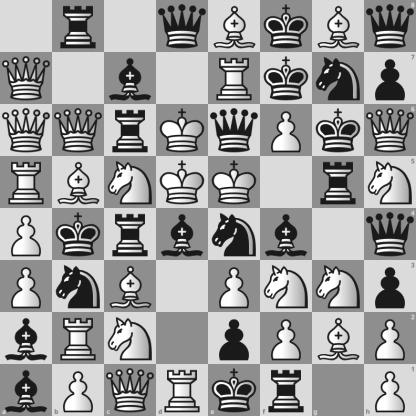B: (53, 157, 104, 208), (105, 261, 156, 312), (209, 1, 260, 52), (313, 1, 364, 52), (313, 313, 364, 364)
K: (157, 105, 208, 156), (157, 157, 208, 208), (209, 157, 260, 208)
N: (364, 156, 416, 209), (105, 157, 156, 208), (105, 313, 156, 364), (261, 261, 312, 312), (313, 261, 364, 312)
P: (52, 364, 104, 416), (364, 312, 416, 364), (364, 364, 416, 416), (1, 209, 52, 260), (1, 261, 52, 312), (209, 261, 260, 312), (261, 105, 312, 156), (261, 313, 312, 364)
Q: (104, 364, 156, 416), (364, 104, 416, 156), (1, 53, 52, 104), (1, 105, 52, 156), (53, 105, 104, 156)
R: (156, 364, 209, 416), (1, 157, 52, 208), (53, 313, 104, 364), (209, 53, 260, 104)
b: (0, 364, 52, 416), (1, 313, 52, 364), (105, 53, 156, 104), (157, 209, 208, 260), (261, 209, 312, 260)
board: (0, 0, 415, 415)
k: (209, 364, 260, 416), (53, 209, 104, 260), (261, 1, 312, 52), (261, 53, 312, 104), (313, 105, 364, 156)
n: (53, 261, 104, 312), (209, 209, 260, 260), (313, 53, 364, 104)
p: (364, 52, 416, 104), (364, 260, 416, 312), (209, 313, 260, 364)
q: (364, 0, 416, 52), (364, 209, 416, 260), (157, 1, 208, 52), (209, 105, 260, 156)
r: (260, 364, 312, 416), (53, 1, 104, 52), (105, 105, 156, 156), (105, 209, 156, 260), (313, 157, 364, 208)
